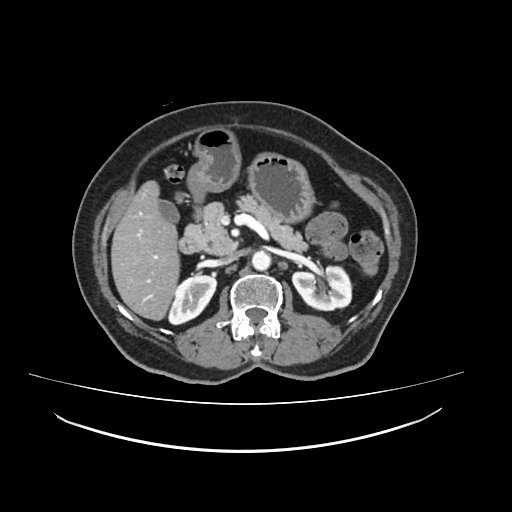aorta: (250, 248, 271, 272)
